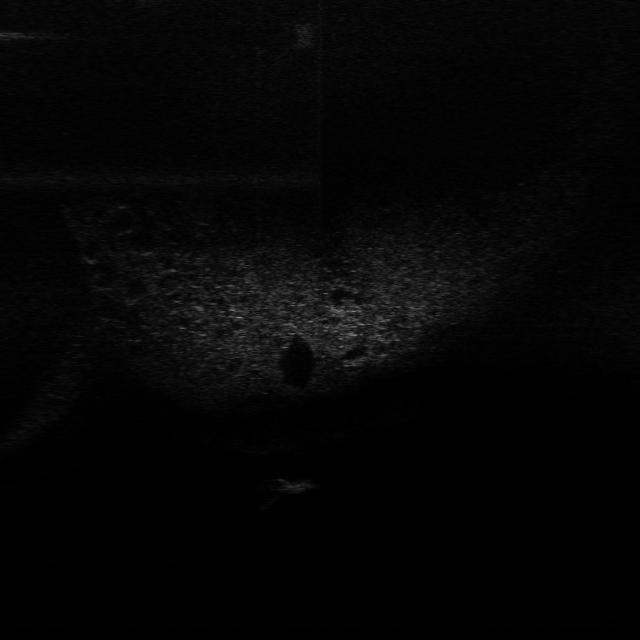cube: (266, 471, 318, 496)
